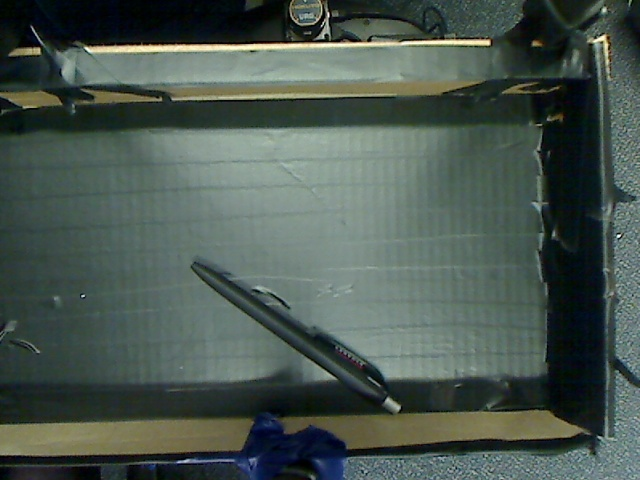pen: (166, 245, 414, 423)
